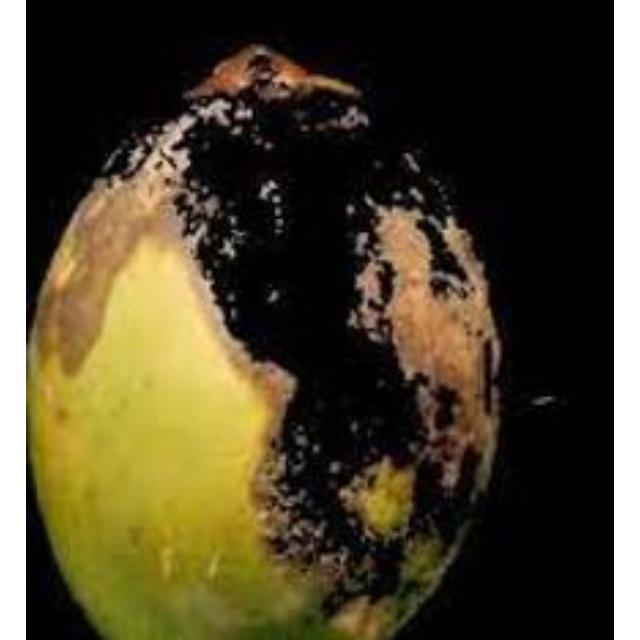damaged: (26, 44, 499, 637)
